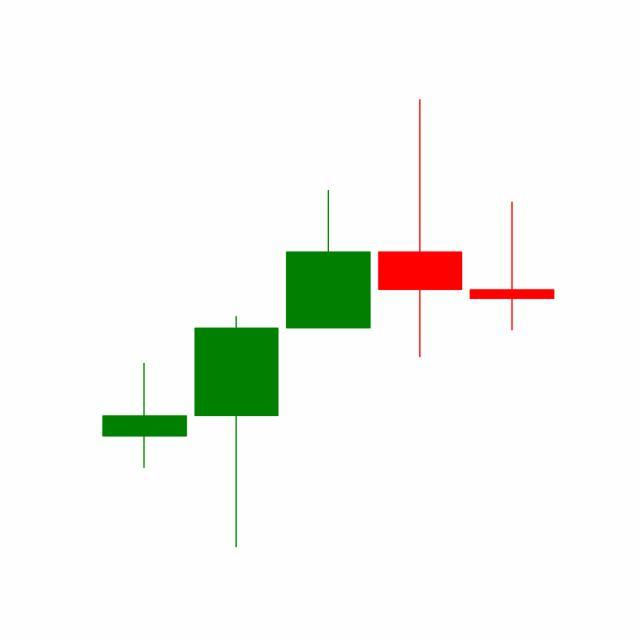Spinning Top: (466, 200, 559, 333)
